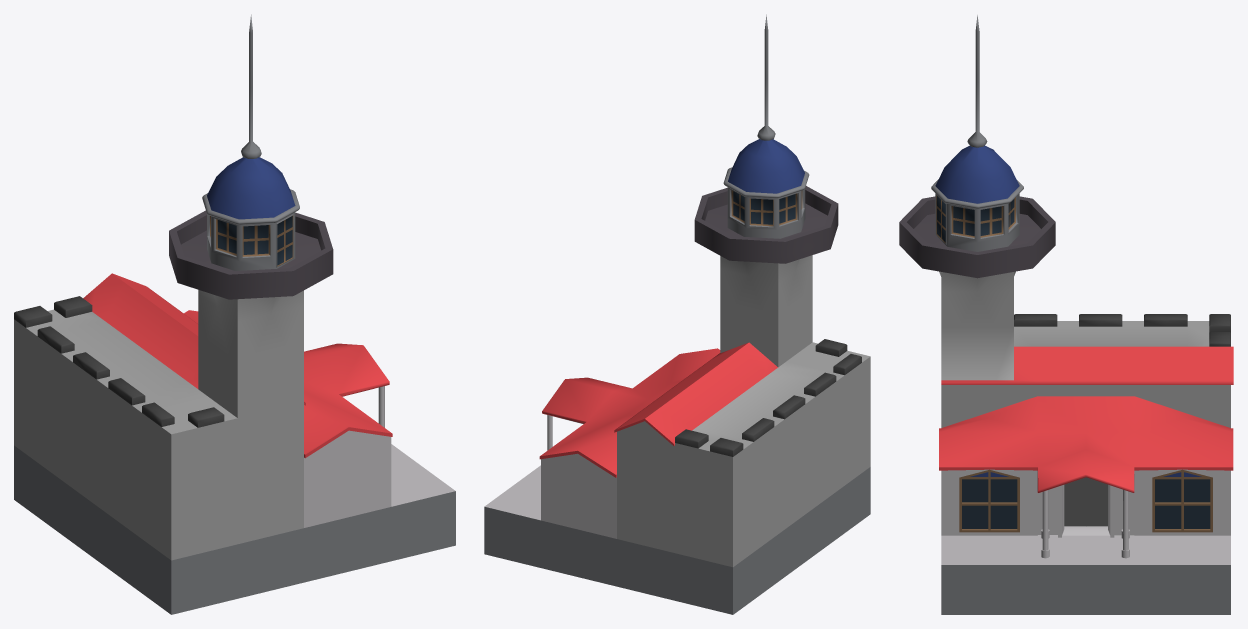
The model's file is maidensTower.glb.
3 views of the same model, side by side, from view 1: azimuth 30°, elevation 25°; view 2: azimuth 150°, elevation 25°; view 3: azimuth 270°, elevation 25° (orthographic). The views are drawn at different scales.
Visible parts, largest first — view 1: Kiz_Kulesi_Main1_0; view 2: Kiz_Kulesi_Main1_0; view 3: Kiz_Kulesi_Main1_0.
Part boxes in pixels (bbox=[...]): Kiz_Kulesi_Main1_0: bbox=[14, 14, 455, 614]; Kiz_Kulesi_Main1_0: bbox=[484, 14, 870, 614]; Kiz_Kulesi_Main1_0: bbox=[899, 15, 1233, 614].
Bounding box in the file's own units: 1603 × 3027 × 1772.
1 material, 1 textured.
